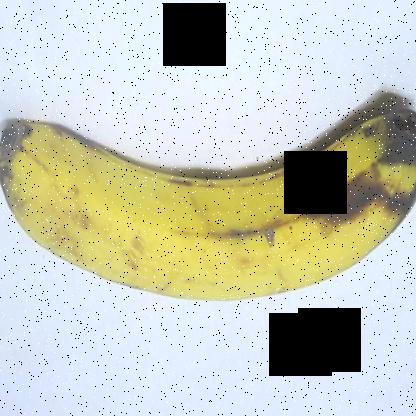ripe: (1, 107, 415, 314)
